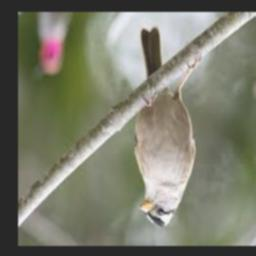Sparrow: (134, 28, 201, 227)
